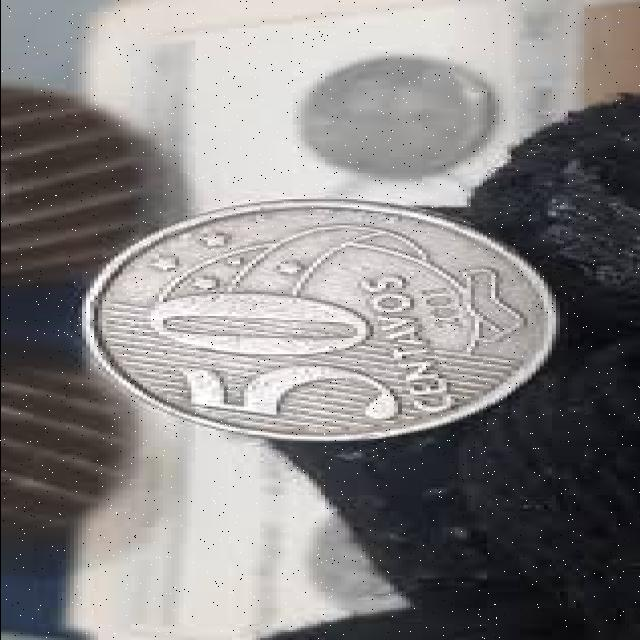50 cent: (82, 198, 558, 442)
